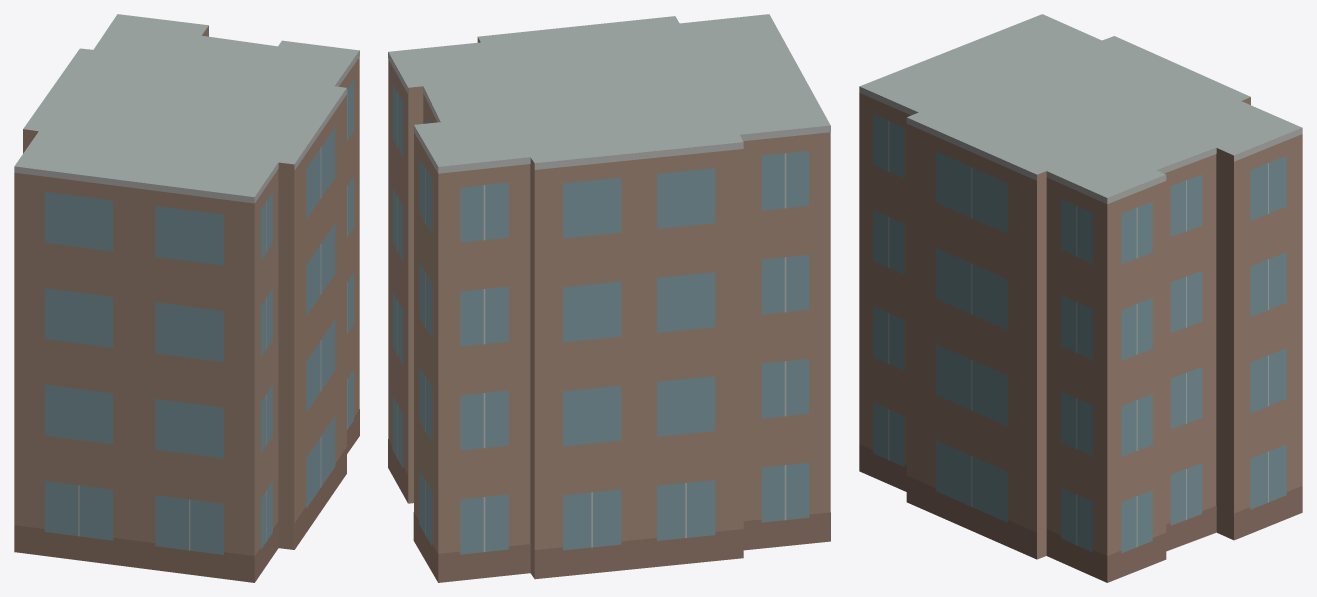
File: survey-upis-32974074.glb
The picture shows the model from 3 angles, left to right: view 1: azimuth 30°, elevation 25°; view 2: azimuth 150°, elevation 25°; view 3: azimuth 270°, elevation 25°; orthographic projection. The views are drawn at different scales.
Parts seen in each view (by area): view 1: survey-upis-32974074.tmp; view 2: survey-upis-32974074.tmp; view 3: survey-upis-32974074.tmp.
Boxes of the visible parts, x1,y1,x2,y2 form: survey-upis-32974074.tmp: (14,14,359,582); survey-upis-32974074.tmp: (388,14,830,582); survey-upis-32974074.tmp: (859,14,1302,582).
Bounding box in the file's own units: 15.46 × 15.07 × 15.74.
